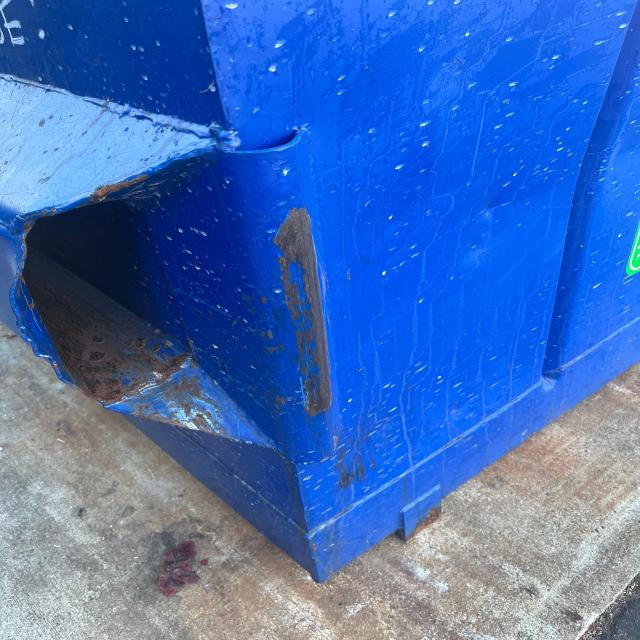Filiform Corrosion: (24, 204, 246, 436), (271, 211, 332, 417), (92, 177, 147, 201)
